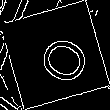O_NW: (22, 24, 88, 86)
